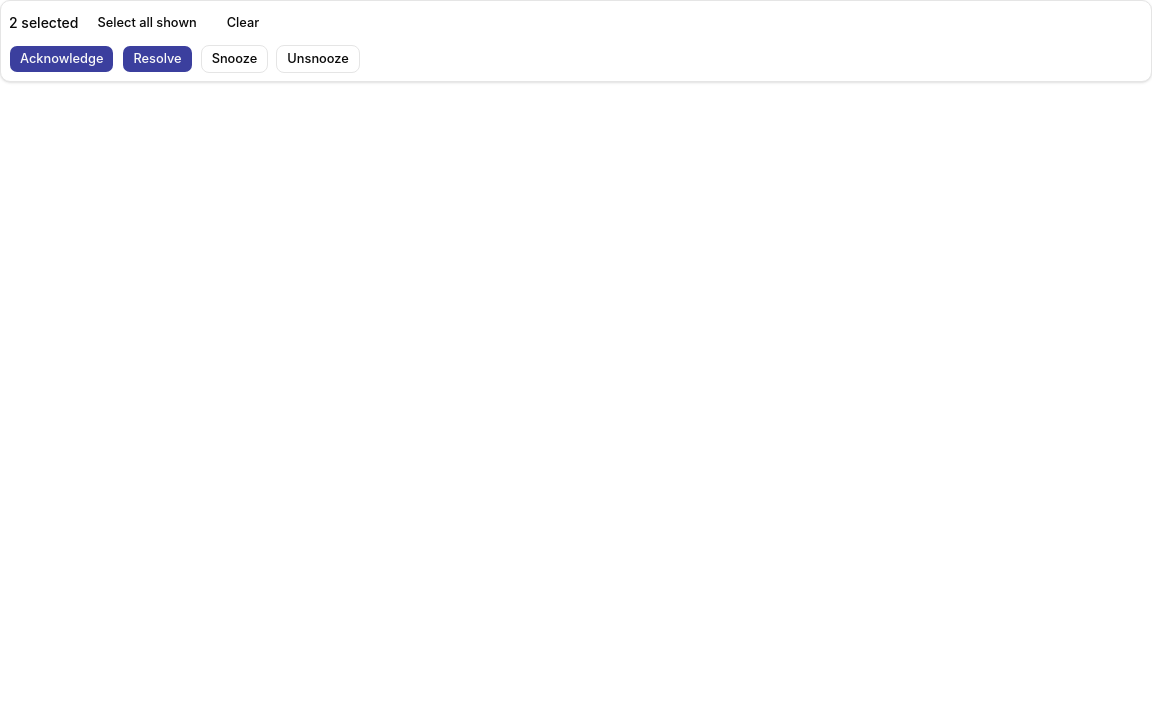
it: BulkActionsBar › a bulk Acknowledge sends the selection and lists every outcome
Click the button "Acknowledge" at (62, 59), box [9,45,114,73]
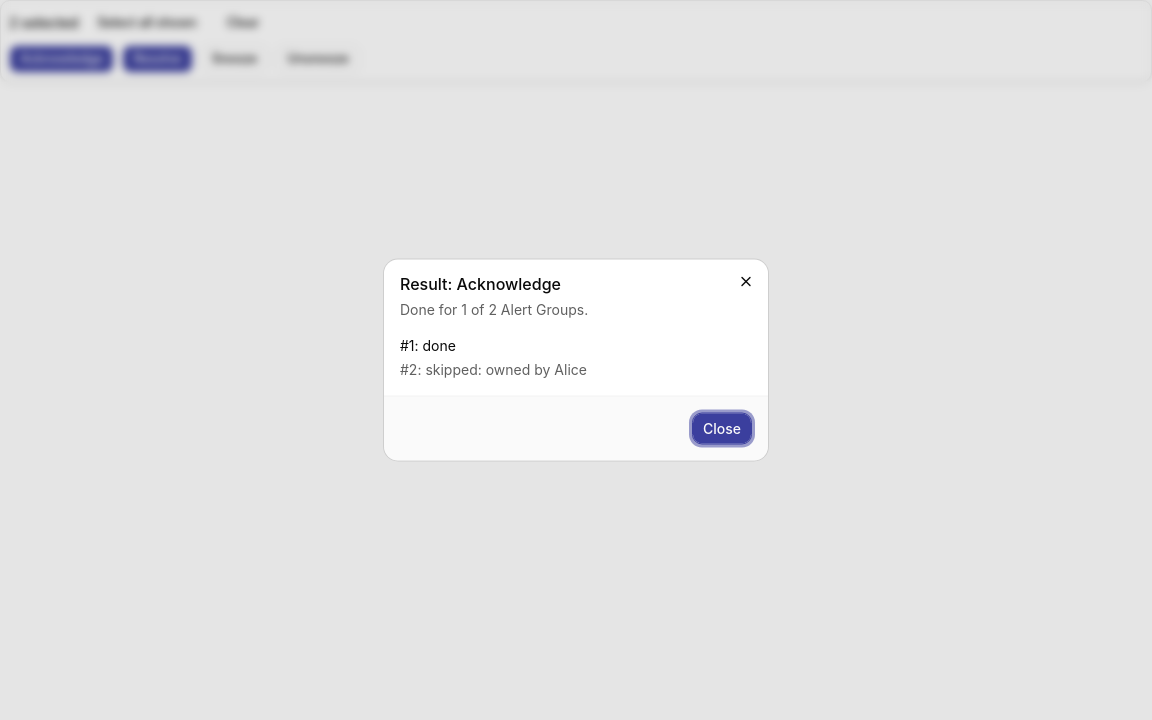
Result: the dialog "Result: Acknowledge" is shown at [384,260,768,460]
